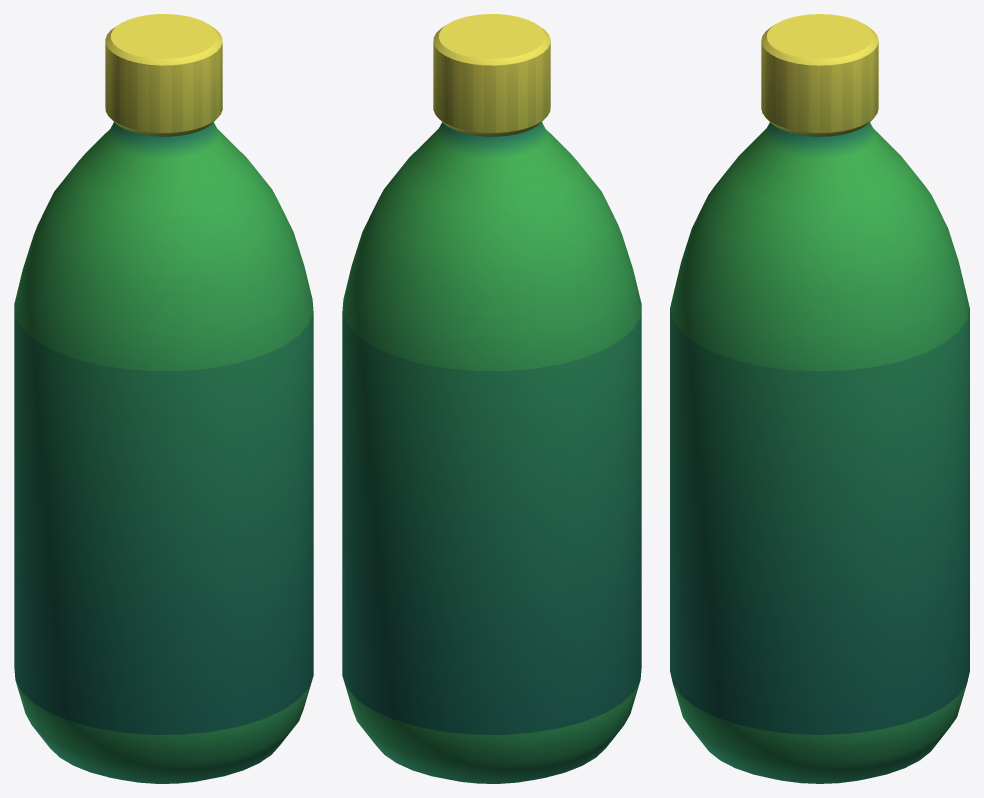
The model's file is Fbx_SodaBottle_Dynamic.fbx.
The picture shows the model from 3 angles, left to right: view 1: azimuth 30°, elevation 25°; view 2: azimuth 150°, elevation 25°; view 3: azimuth 270°, elevation 25°; orthographic projection.
Parts seen in each view (by area): view 1: Soda Bottle Open, Soda Bottle Lid; view 2: Soda Bottle Open, Soda Bottle Lid; view 3: Soda Bottle Open, Soda Bottle Lid.
Part boxes in pixels (left/top/right/bottom): Soda Bottle Open: left=14, top=122, right=313, bottom=783; Soda Bottle Lid: left=105, top=14, right=222, bottom=136; Soda Bottle Open: left=342, top=122, right=641, bottom=783; Soda Bottle Lid: left=433, top=14, right=550, bottom=136; Soda Bottle Open: left=670, top=122, right=969, bottom=783; Soda Bottle Lid: left=761, top=14, right=878, bottom=136.
Bounding box in the file's own units: 200 × 520 × 200.
